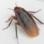cockroach: (14, 6, 38, 38)
